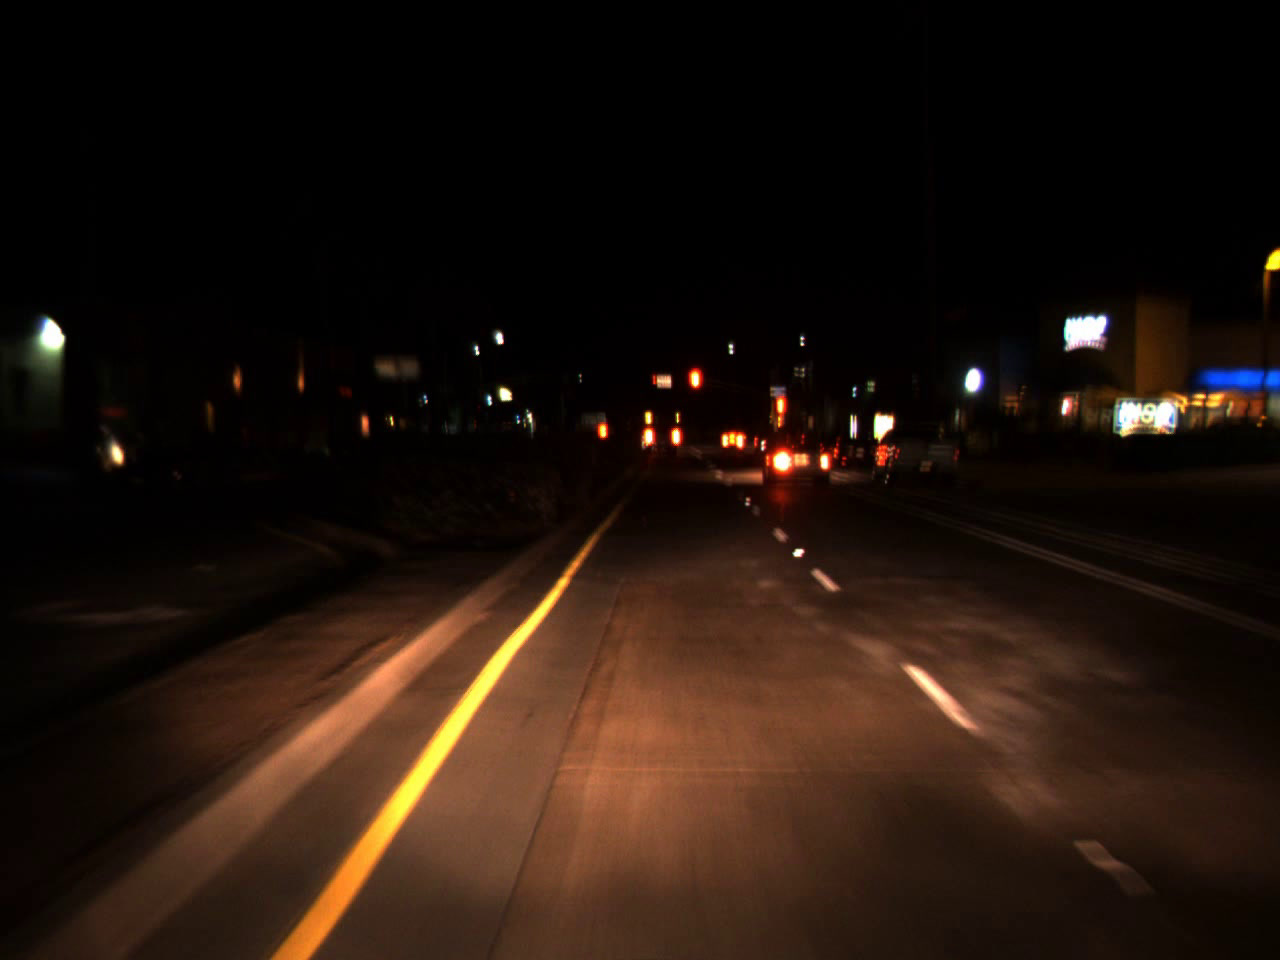stop: (685, 364, 704, 415), (773, 393, 791, 436), (650, 373, 657, 389)
